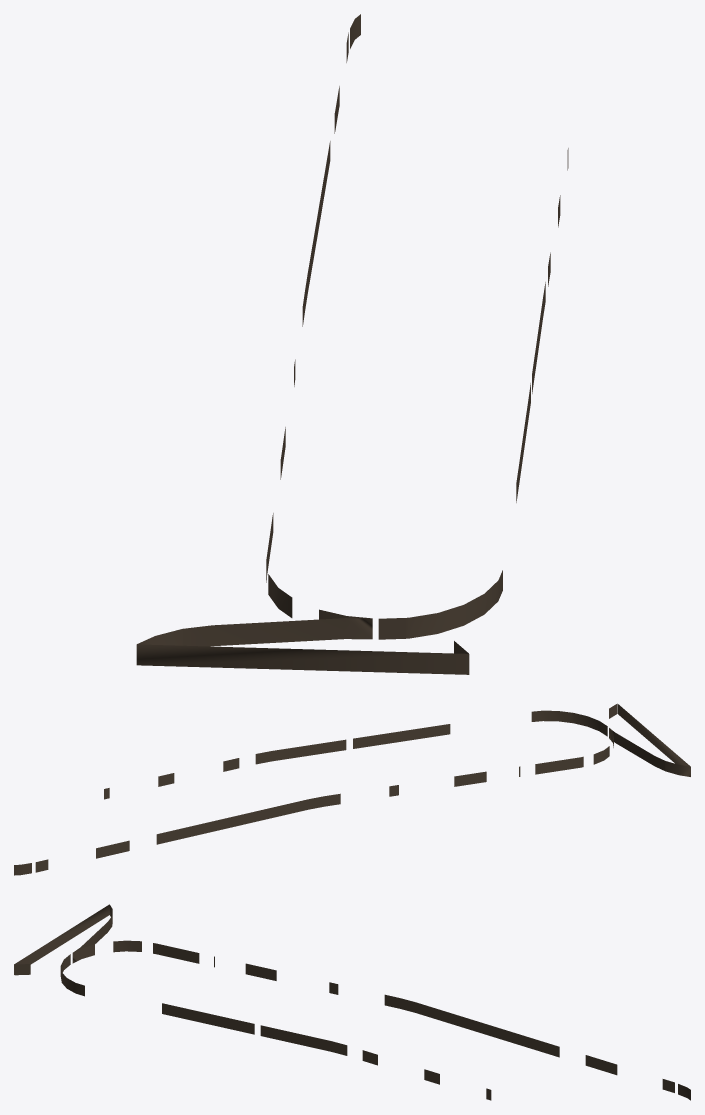
3 views of the same model, one above another, from view 1: azimuth 30°, elevation 25°; view 2: azimuth 150°, elevation 25°; view 3: azimuth 270°, elevation 25° (orthographic). The views are drawn at different scales.
Parts seen in each view (by area): view 1: prototype; view 2: prototype; view 3: prototype.
Boxes of the visible parts, x1,y1,x2,y2 form: prototype: [136, 14, 568, 674]; prototype: [14, 703, 690, 875]; prototype: [14, 904, 690, 1100].
Size of the model in its own units: 12.82 by 0.9032 by 18.2.
